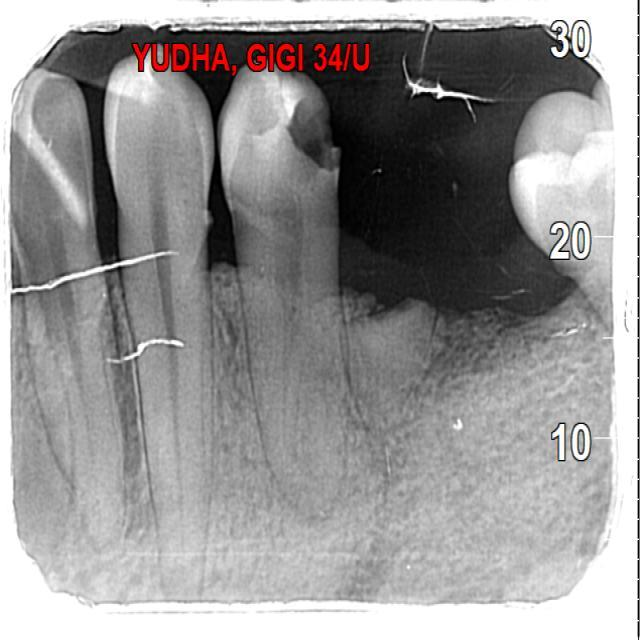individual-tooth-8tto: (107, 48, 217, 599), (229, 60, 348, 517)
